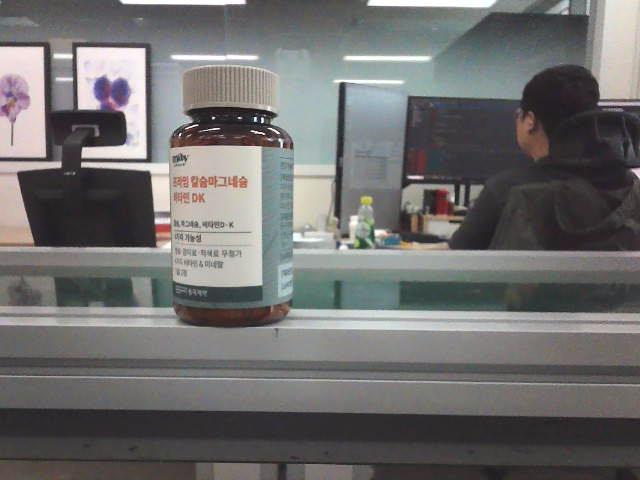labeled: (164, 63, 298, 329)
